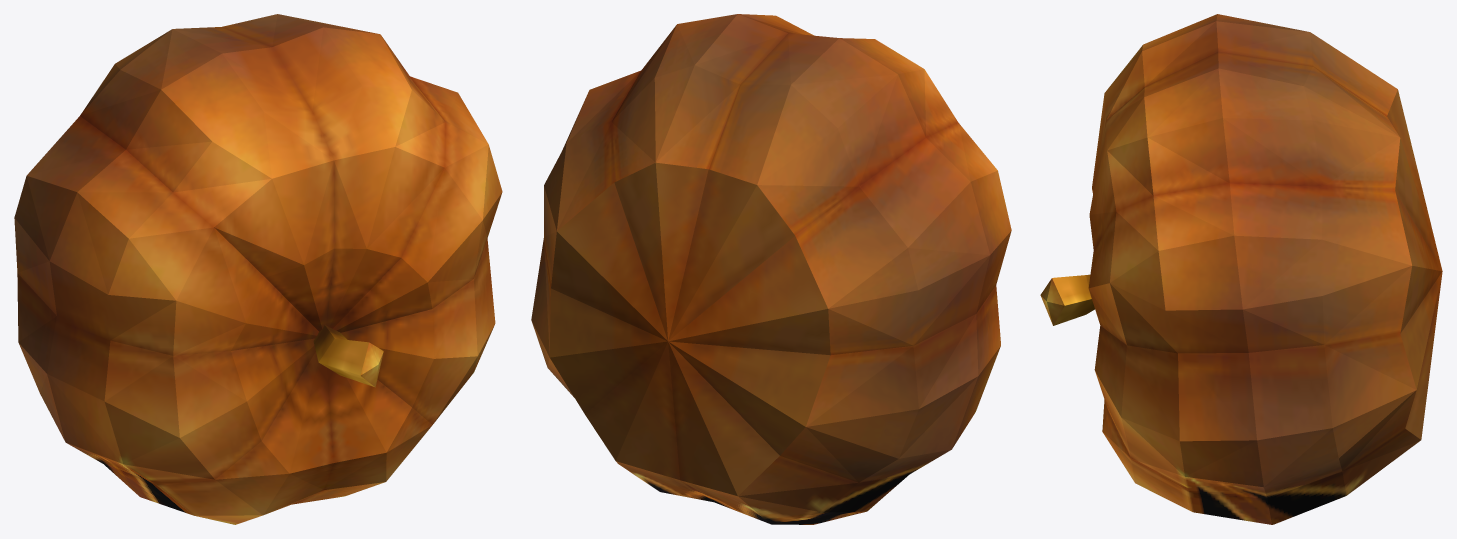
File: common_hair_male_3011.obj
3 renders of one model, left to right at view 1: azimuth 30°, elevation 25°; view 2: azimuth 150°, elevation 25°; view 3: azimuth 270°, elevation 25°, orthographic. The views are drawn at different scales.
Parts seen in each view (by area): view 1: common_hair_male_3011; view 2: common_hair_male_3011; view 3: common_hair_male_3011.
Part boxes in pixels (x1,y1,x2,y2): common_hair_male_3011: (14, 14, 502, 524); common_hair_male_3011: (531, 14, 1011, 524); common_hair_male_3011: (1040, 14, 1442, 524).
Bounding box in the file's own units: 18 × 18.89 × 15.24.
Materials: 1 (1 with a texture image).
